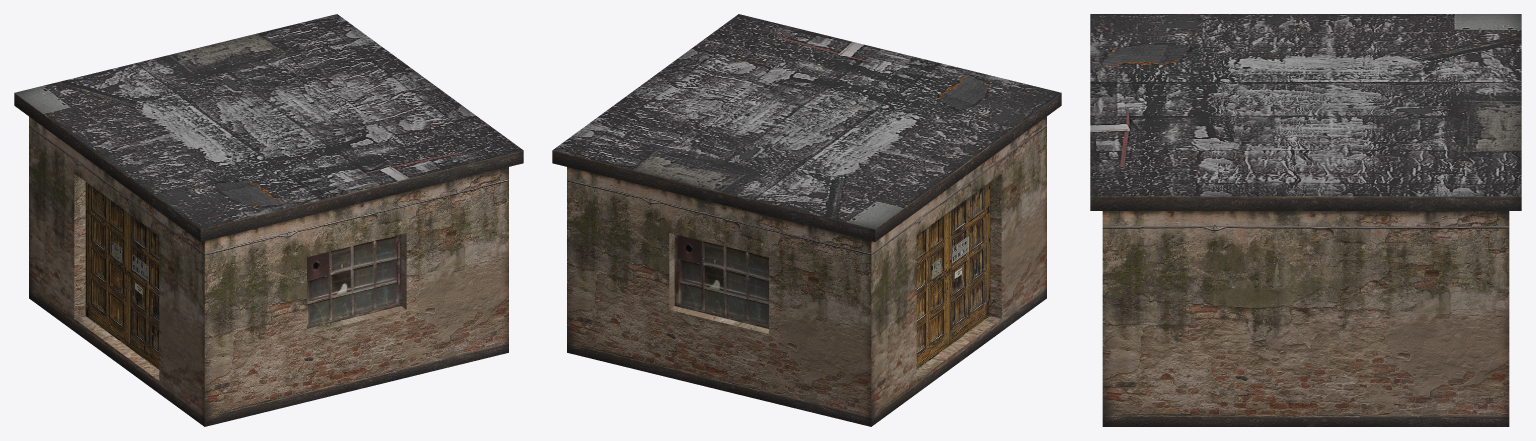
File: sibir_transformatornaya.FBX
3 views of the same model, side by side, from view 1: azimuth 30°, elevation 25°; view 2: azimuth 150°, elevation 25°; view 3: azimuth 270°, elevation 25° (orthographic). The views are drawn at different scales.
Parts seen in each view (by area): view 1: sibir_transformatornaya; view 2: sibir_transformatornaya; view 3: sibir_transformatornaya.
Boxes of the visible parts, x1=… form: sibir_transformatornaya: x1=14, y1=14, x2=523, y2=426; sibir_transformatornaya: x1=552, y1=14, x2=1061, y2=426; sibir_transformatornaya: x1=1090, y1=14, x2=1521, y2=426.
Bounding box in the file's own units: 531 × 531 × 320.
